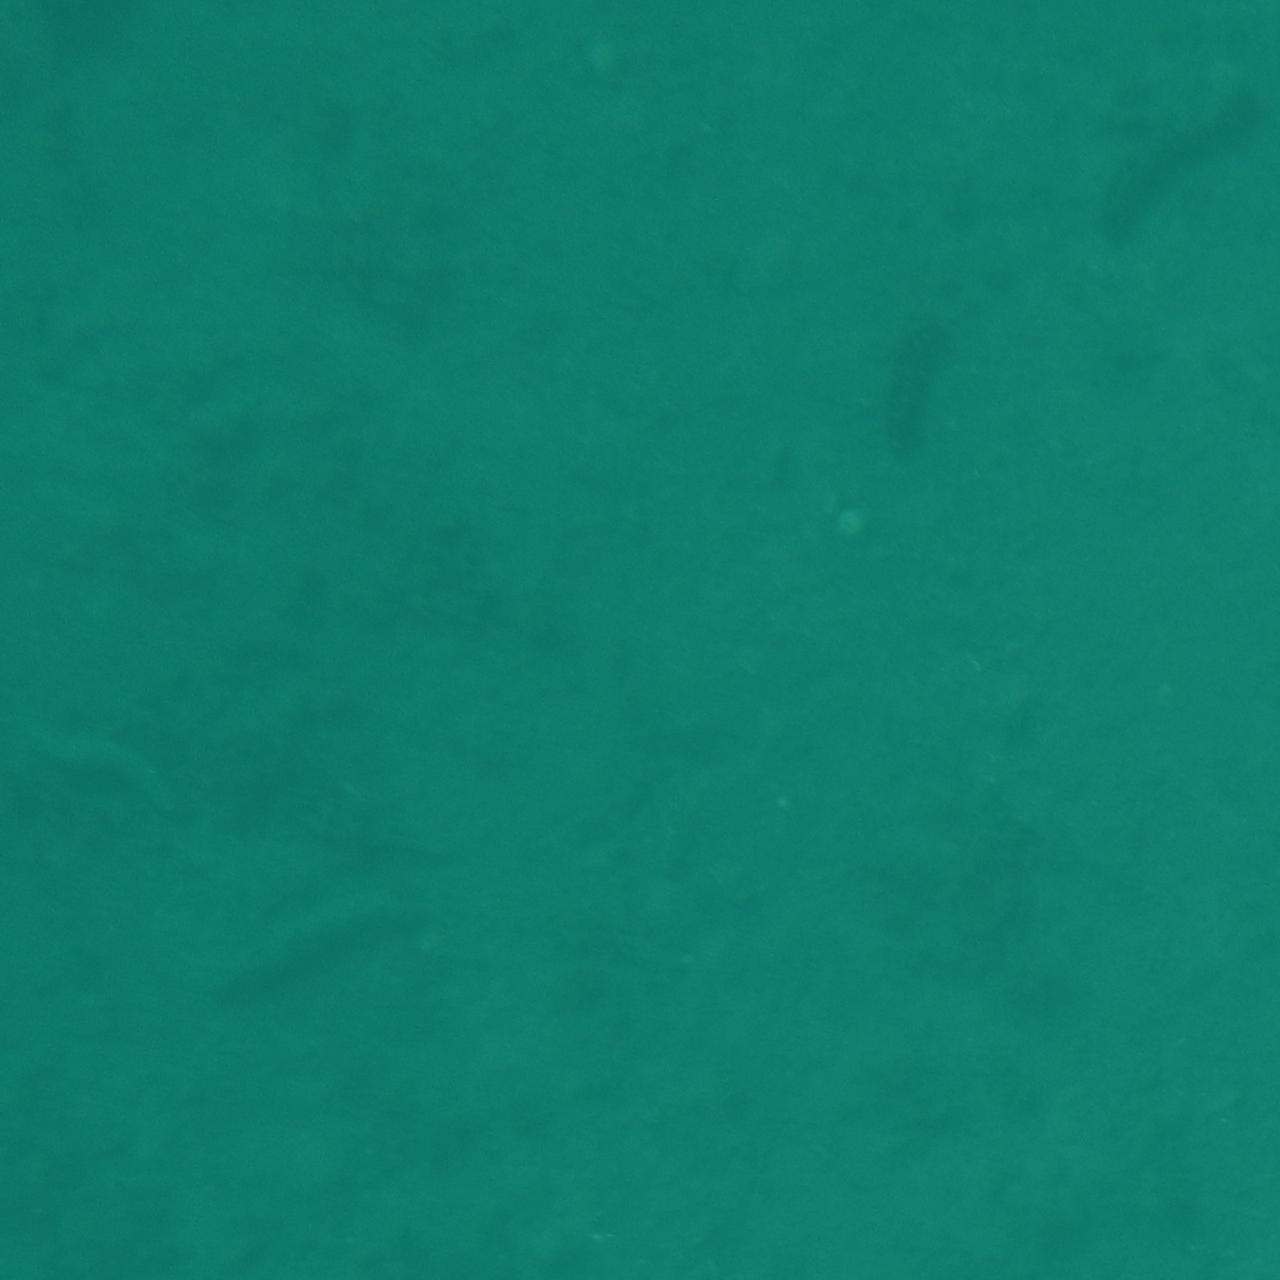Holothuria tubulosa: (218, 857, 454, 1033), (860, 251, 964, 533), (1112, 72, 1278, 240), (251, 1159, 429, 1280), (0, 771, 73, 1032), (605, 1165, 765, 1280), (1051, 0, 1280, 52), (1138, 0, 1280, 74)
